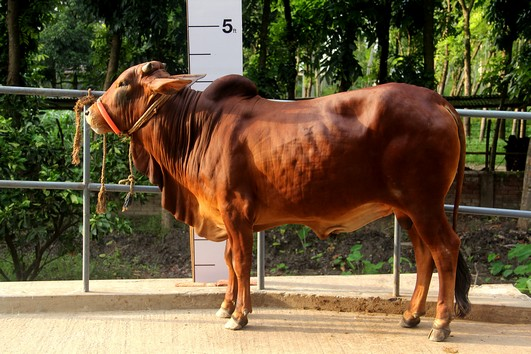cow: (77, 56, 476, 342)
